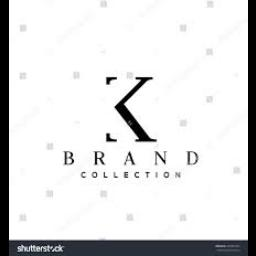k: (94, 64, 164, 148)
